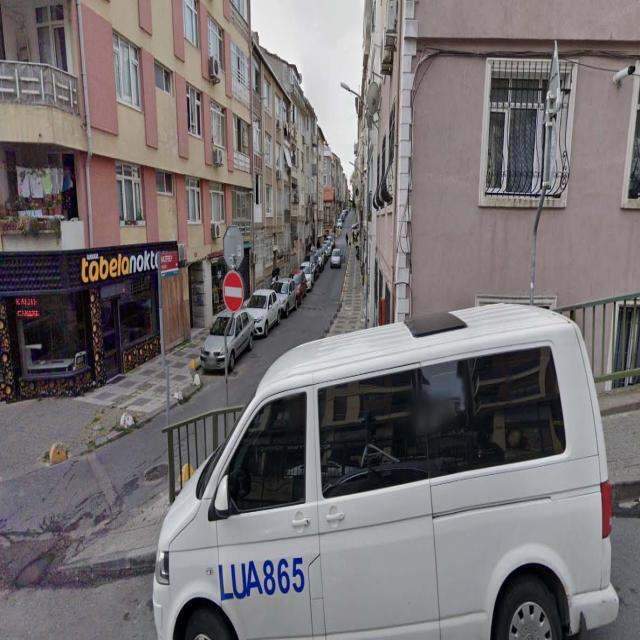girisyok: (223, 272, 244, 312)
